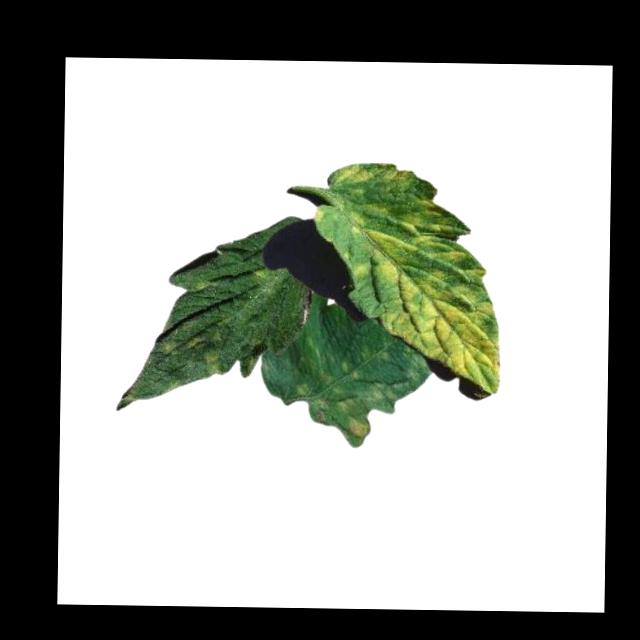Leaf_Mold: (312, 162, 506, 391), (308, 380, 400, 440), (154, 335, 189, 358), (200, 350, 224, 381)
